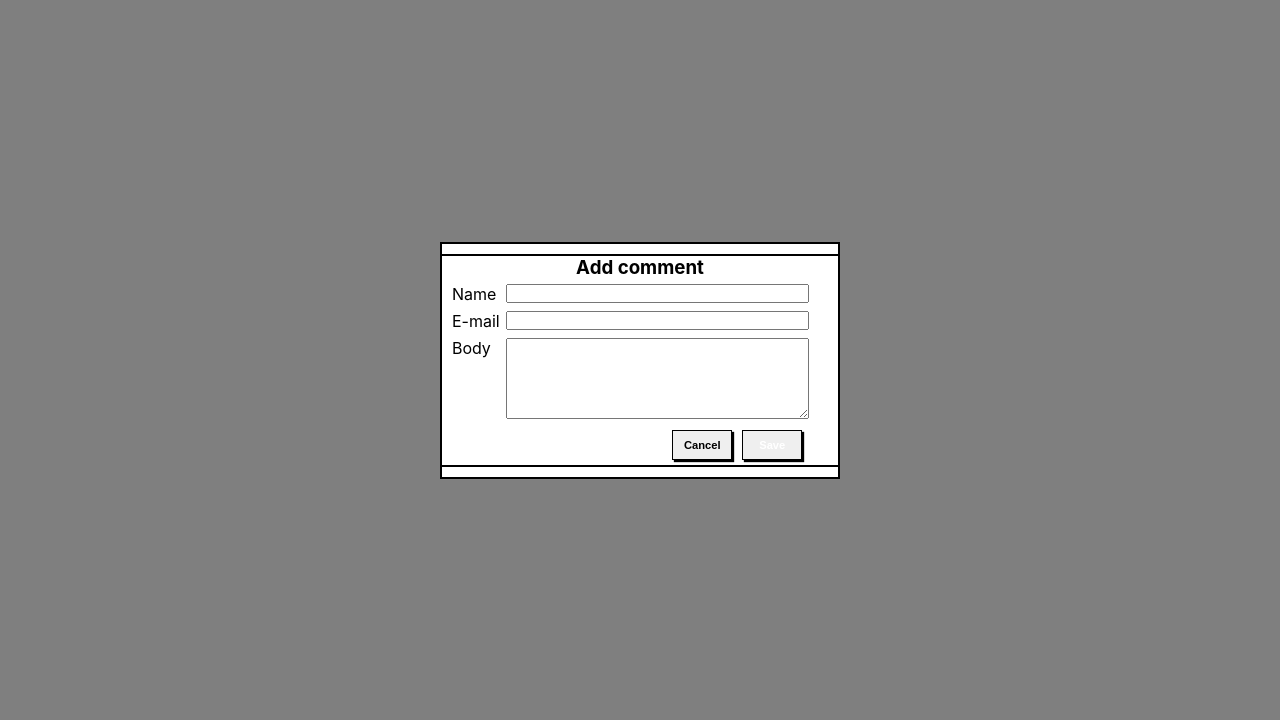
Test case: AddCommentForm › should display required error when e-mail is invalid
In the field labelled "E-mail": (657, 320) [506,310,809,330], type "invalidEmail"
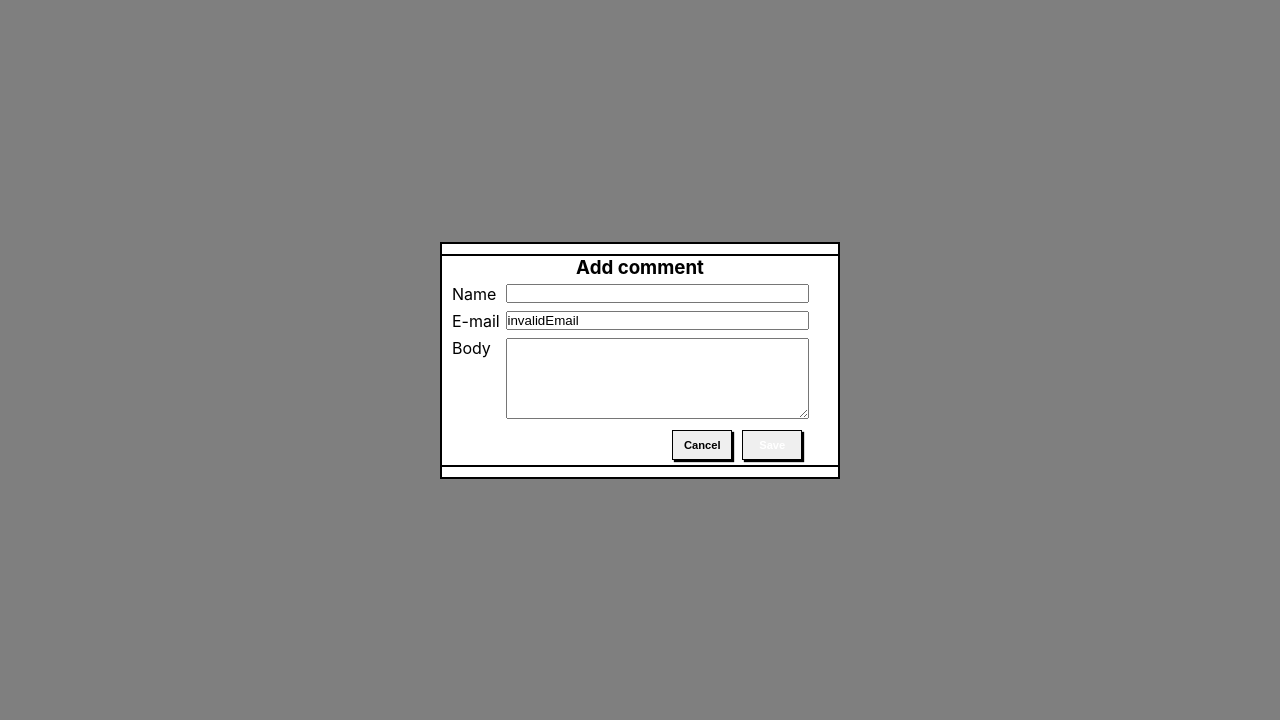
Click the button "Save": (772, 444) [742,430,802,460]
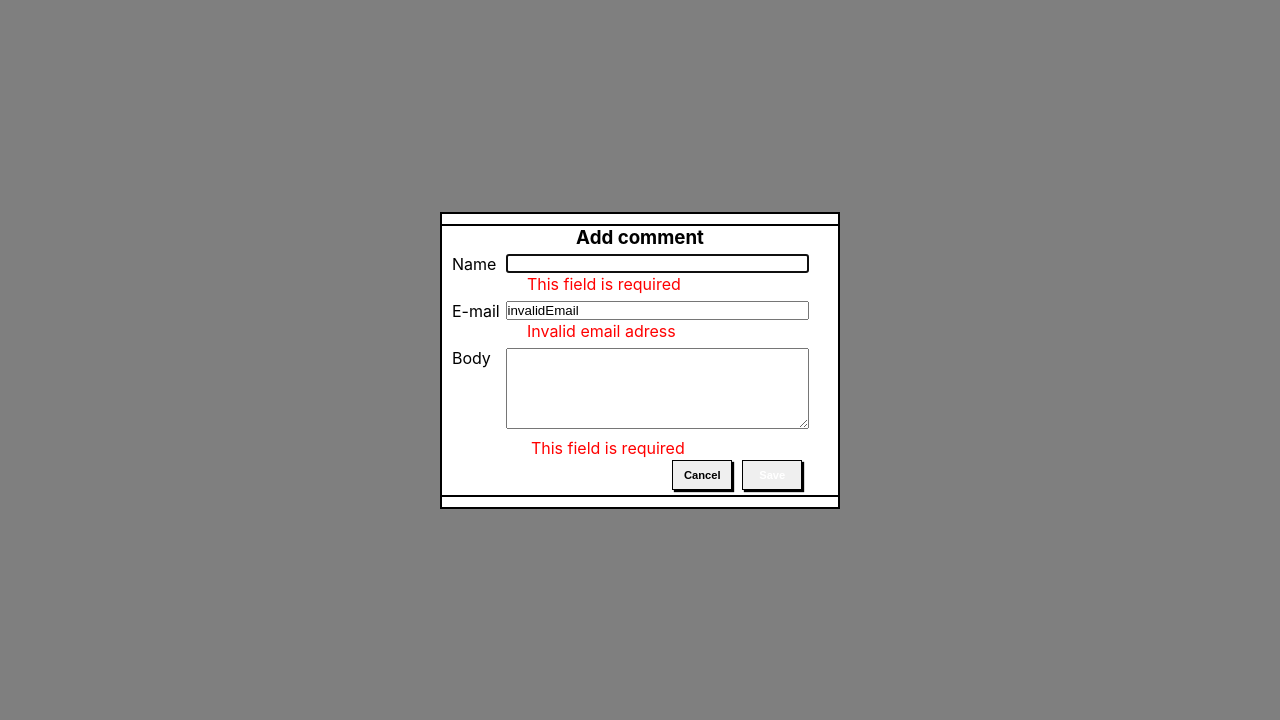
Result: the text "This field is required" is shown 2 times at [527,274,681,294]; [531,438,685,458]
Result: the text "Invalid email adress" is shown once at [527,320,676,340]
